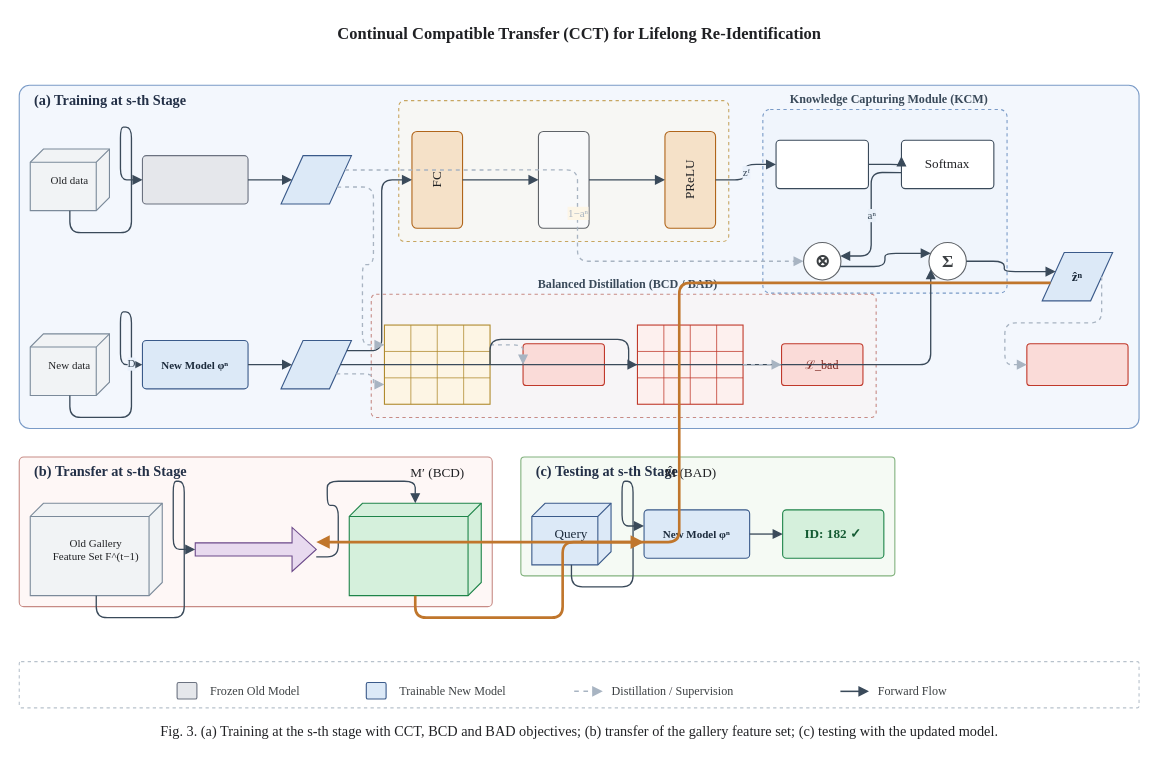
This 1158x759 diagram has some shape labels left out. Each missing label, with the box of its shape:
BN: (537, 130, 589, 228)
Forward Mapping Module (FMM) ×4: (398, 100, 729, 241)
MLP: (775, 139, 868, 189)
New Gallery Feature Set F^t: (348, 502, 481, 596)
Old Model φ⁰: (141, 155, 248, 204)
z⁰: (280, 155, 351, 204)
zⁿ: (280, 339, 351, 389)
ℒ_ct: (522, 343, 604, 386)
ℒ_hat (CE): (1026, 343, 1128, 386)
